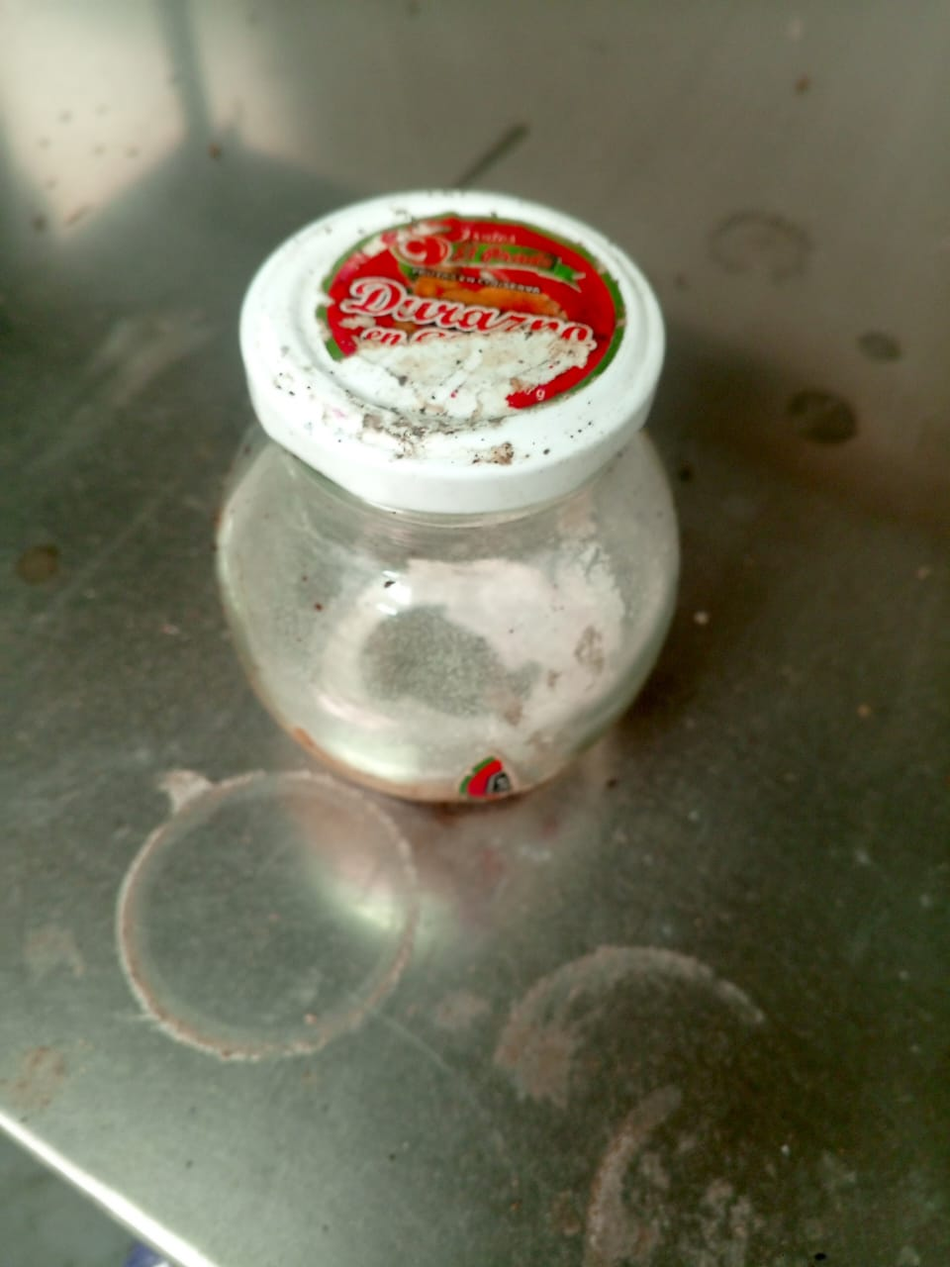Vidrio: (214, 435, 689, 806)
